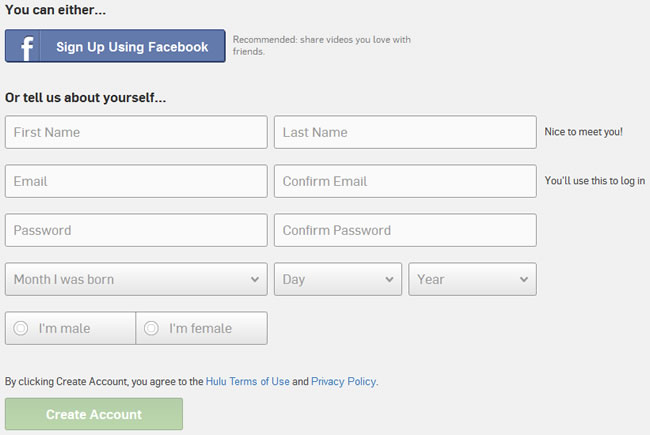_form_: (1, 27, 565, 435), (258, 27, 545, 306)
button: (4, 28, 226, 63), (5, 397, 184, 431)
field: (4, 115, 269, 150), (273, 213, 538, 248), (4, 212, 269, 247), (273, 163, 538, 198), (4, 163, 269, 198), (273, 114, 538, 149)
radio: (13, 319, 29, 337), (144, 319, 160, 336)
radio_with_label: (140, 317, 234, 337), (10, 317, 92, 337)
select: (4, 263, 268, 297), (273, 262, 404, 296), (408, 262, 537, 296)
